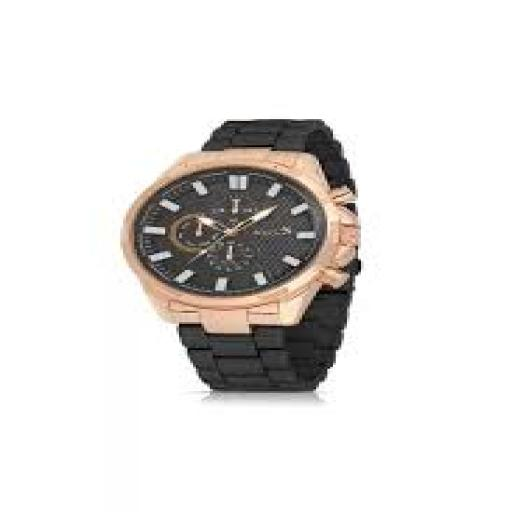KolSaati: (60, 64, 411, 431)
